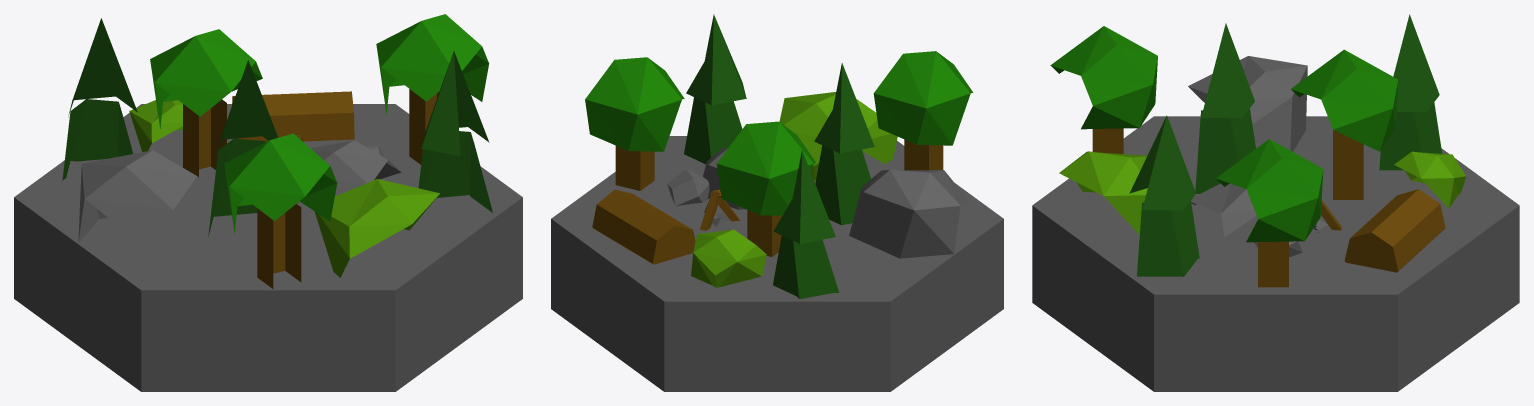
The model's file is Wood3.fbx.
3 views of the same model, side by side, from view 1: azimuth 30°, elevation 25°; view 2: azimuth 150°, elevation 25°; view 3: azimuth 270°, elevation 25° (orthographic). The views are drawn at different scales.
Visible parts, largest first — view 1: Cylinder; view 2: Cylinder; view 3: Cylinder.
Boxes of the visible parts, x1,y1,x2,y2 form: Cylinder: (14, 14, 522, 391); Cylinder: (551, 14, 1003, 391); Cylinder: (1032, 14, 1519, 391).
Size of the model in its own units: 1.84 by 1.17 by 2.
